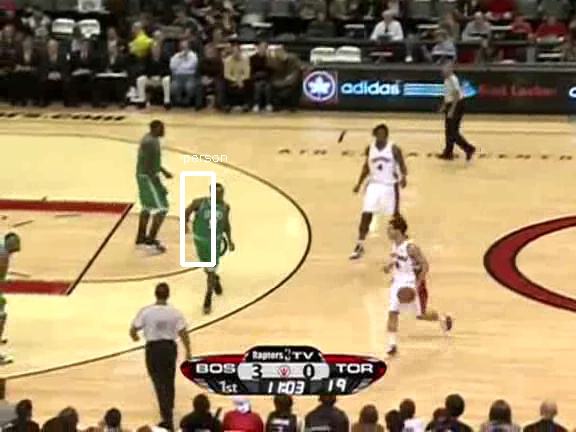person: (193, 193, 227, 274), (192, 193, 226, 274), (194, 193, 228, 274), (193, 192, 227, 273), (193, 194, 227, 275)
target_negative: (260, 62, 397, 400), (209, 191, 497, 351), (289, 320, 524, 375), (560, 158, 576, 219), (545, 351, 550, 417), (569, 320, 573, 400)
